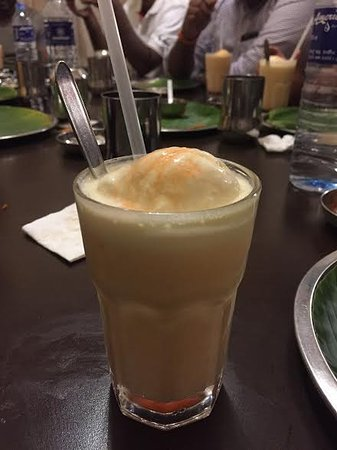jigirthanda: (75, 151, 229, 391)
